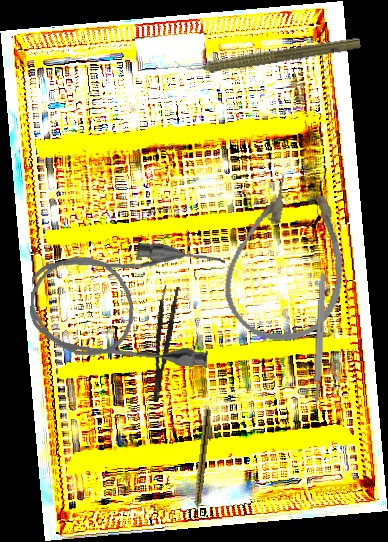Cannula: (213, 166, 366, 353), (27, 235, 226, 369)
Handpiece: (173, 30, 362, 81), (190, 408, 212, 519)
Scalpel Handle: (312, 272, 327, 404)
Tissue Forceps: (142, 284, 181, 403)
